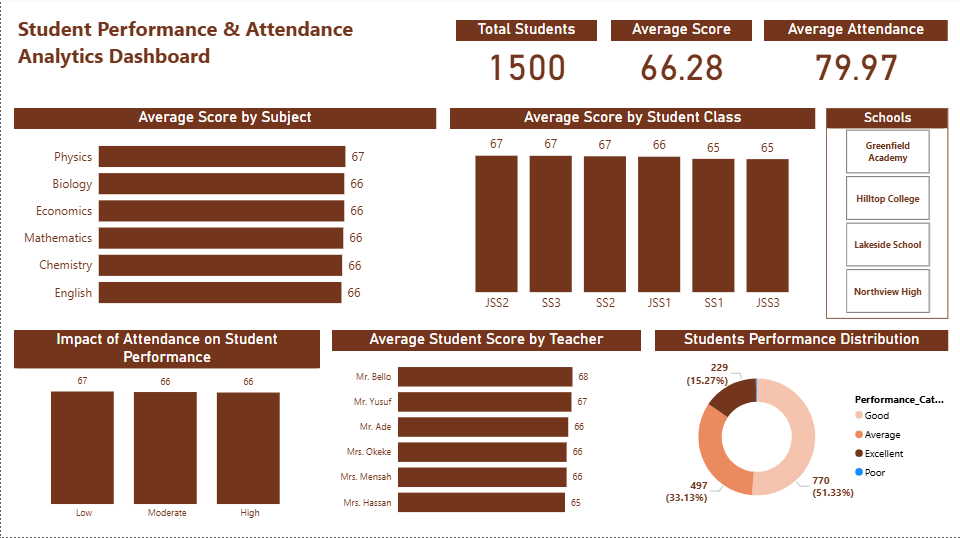

What the dashboard file says about the page in this screenshot:
{"tool":"powerbi","page":{"name":"Page 1","canvas":[1280,720],"ordinal":0},"visuals":[{"type":"card","title":"Average Score","fields":{"Values":["education_student_performance_dataset.Average Score"]},"box":[813,30.2,188.1,92.4],"z":0},{"type":"card","title":"Average Attendance","fields":{"Values":["education_student_performance_dataset.Average Attendance"]},"box":[1018,30.2,245.2,92.4],"z":1000},{"type":"card","title":"Total Students","fields":{"Values":["education_student_performance_dataset.Total Students"]},"box":[606.4,30.2,188.1,92.4],"z":2000},{"type":"clusteredBarChart","fields":{"Category":["education_student_performance_dataset.Subject"],"Y":["education_student_performance_dataset.Average Score"]},"box":[16.8,147.8,562.7,280.5],"z":3000},{"type":"columnChart","fields":{"Category":["education_student_performance_dataset.Student Class"],"Y":["education_student_performance_dataset.Average Score"]},"box":[598,147.8,487.1,280.5],"z":4000},{"type":"clusteredColumnChart","title":"Impact of Attendance on Student Performance","fields":{"Category":["education_student_performance_dataset.Attendance_Category"],"Y":["education_student_performance_dataset.Average Score"]},"box":[16.8,443.5,408.2,262],"z":5000},{"type":"barChart","title":"Average Student Score by Teacher","fields":{"Category":["education_student_performance_dataset.Teacher"],"Y":["education_student_performance_dataset.Average Score"]},"box":[441.8,443.5,411.5,262],"z":6000},{"type":"donutChart","title":"Students Performance Distribution","fields":{"Category":["education_student_performance_dataset.Performance_Category"],"Y":["education_student_performance_dataset.Total Students"]},"box":[871.8,443.5,391.4,262],"z":7000},{"type":"slicer","title":"Schools","fields":{"Values":["education_student_performance_dataset.School"]},"box":[1100.3,147.8,162.9,280.5],"z":8000},{"type":"textbox","box":[16.8,16.8,468.7,87.3],"z":9000}]}

Visuals, with their boxes in screenshot pixels (x1, y1, x2, y2), scaled from the page's 1280x720 canvas onto the 960x538 screenshot:
"Average Score" card: 610:23:751:92
"Average Attendance" card: 764:23:947:92
"Total Students" card: 455:23:596:92
clusteredBarChart - education_student_performance_dataset.Subject x education_student_performance_dataset.Average Score: 13:110:435:320
columnChart - education_student_performance_dataset.Student Class x education_student_performance_dataset.Average Score: 448:110:814:320
"Impact of Attendance on Student Performance" clusteredColumnChart: 13:331:319:527
"Average Student Score by Teacher" barChart: 331:331:640:527
"Students Performance Distribution" donutChart: 654:331:947:527
"Schools" slicer: 825:110:947:320
textbox: 13:13:364:78
